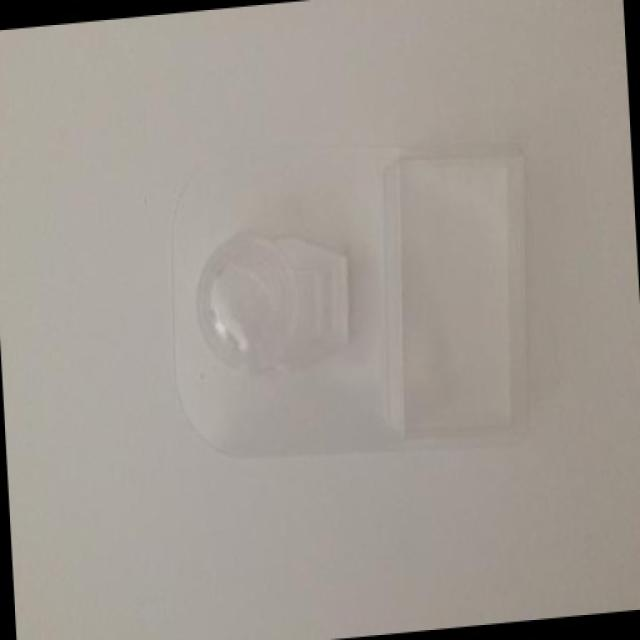plastico: (150, 113, 570, 482)
